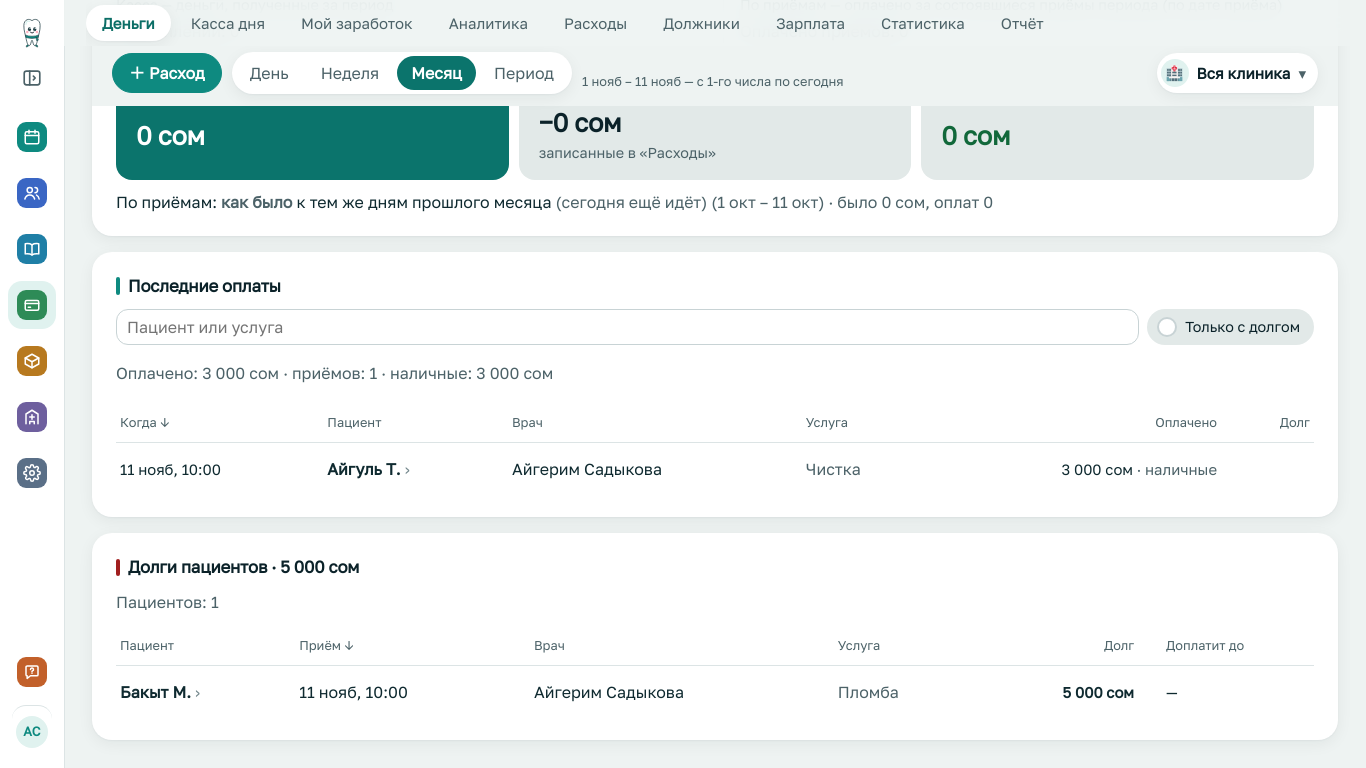
«Касса»: строка долга и строка оплаты открывают карточку приёма кликом по любой ячейке
The width and height of the screenshot is (1366, 768).
Later steps or results of the test are not shown.
(page scrolled)
Click the text "Пломба" at (900, 692), box [822, 666, 977, 718]
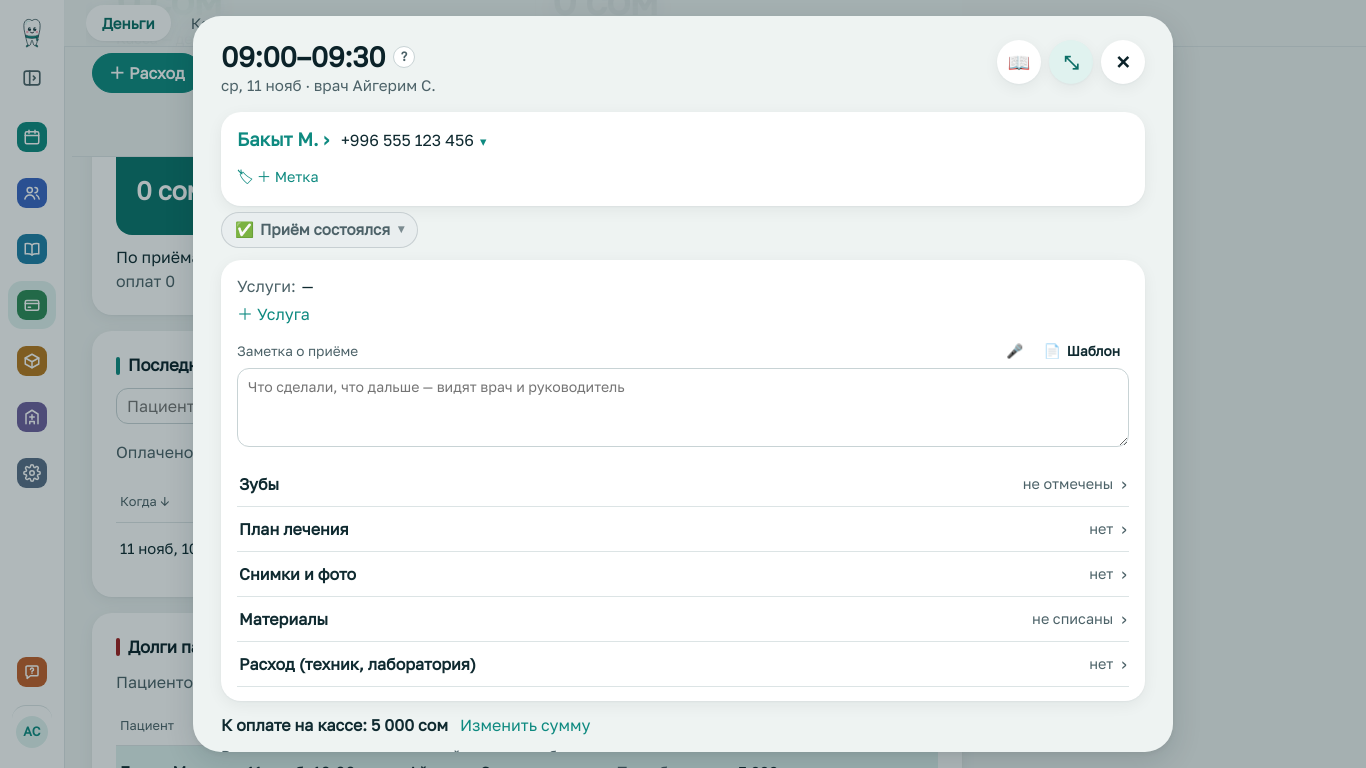
Now the element named "Карточка приёма" shows "Бакыт М.", box [237, 126, 329, 154]
